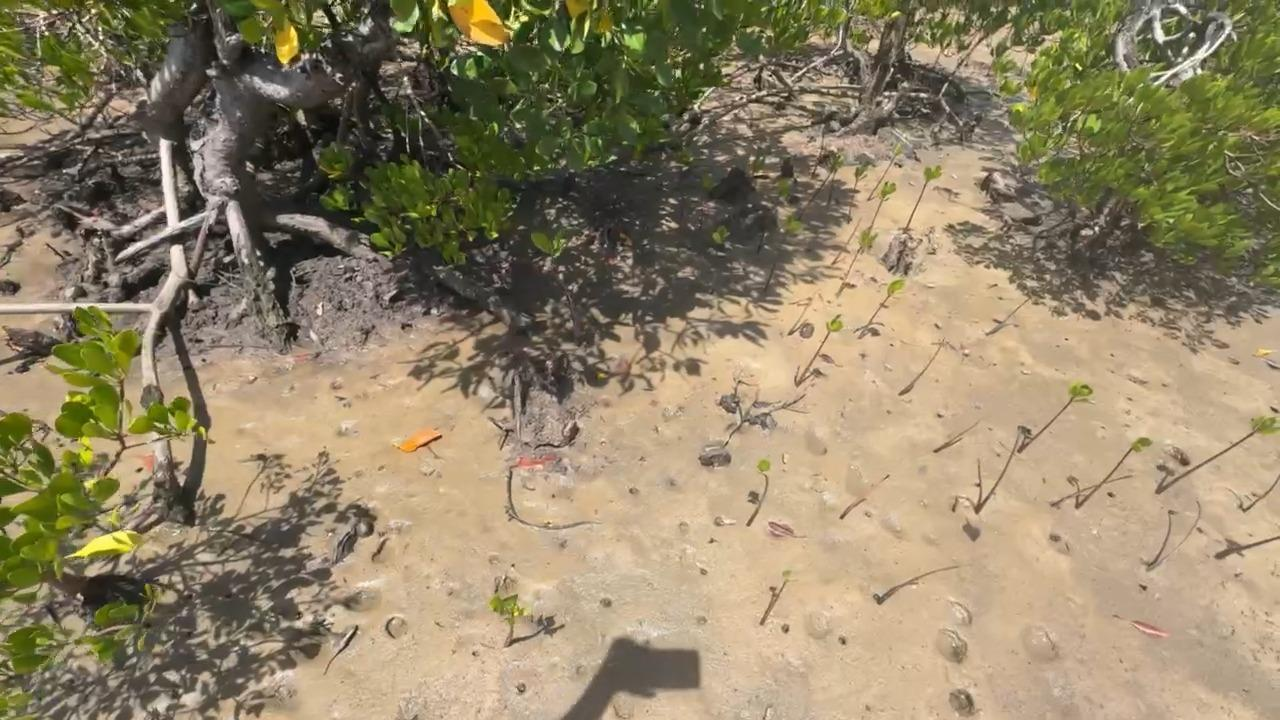Tree: (1155, 415, 1280, 495), (951, 423, 1030, 515), (1067, 437, 1152, 510), (1016, 382, 1093, 453), (1138, 500, 1201, 571), (794, 314, 842, 385), (762, 216, 802, 294), (904, 164, 944, 232), (867, 141, 909, 203), (489, 594, 531, 647), (808, 152, 845, 201), (1211, 534, 1280, 559), (848, 224, 880, 271), (869, 180, 897, 228), (825, 154, 847, 207), (852, 152, 873, 193), (712, 225, 732, 265), (774, 570, 799, 601), (881, 276, 906, 307), (757, 459, 771, 503)
